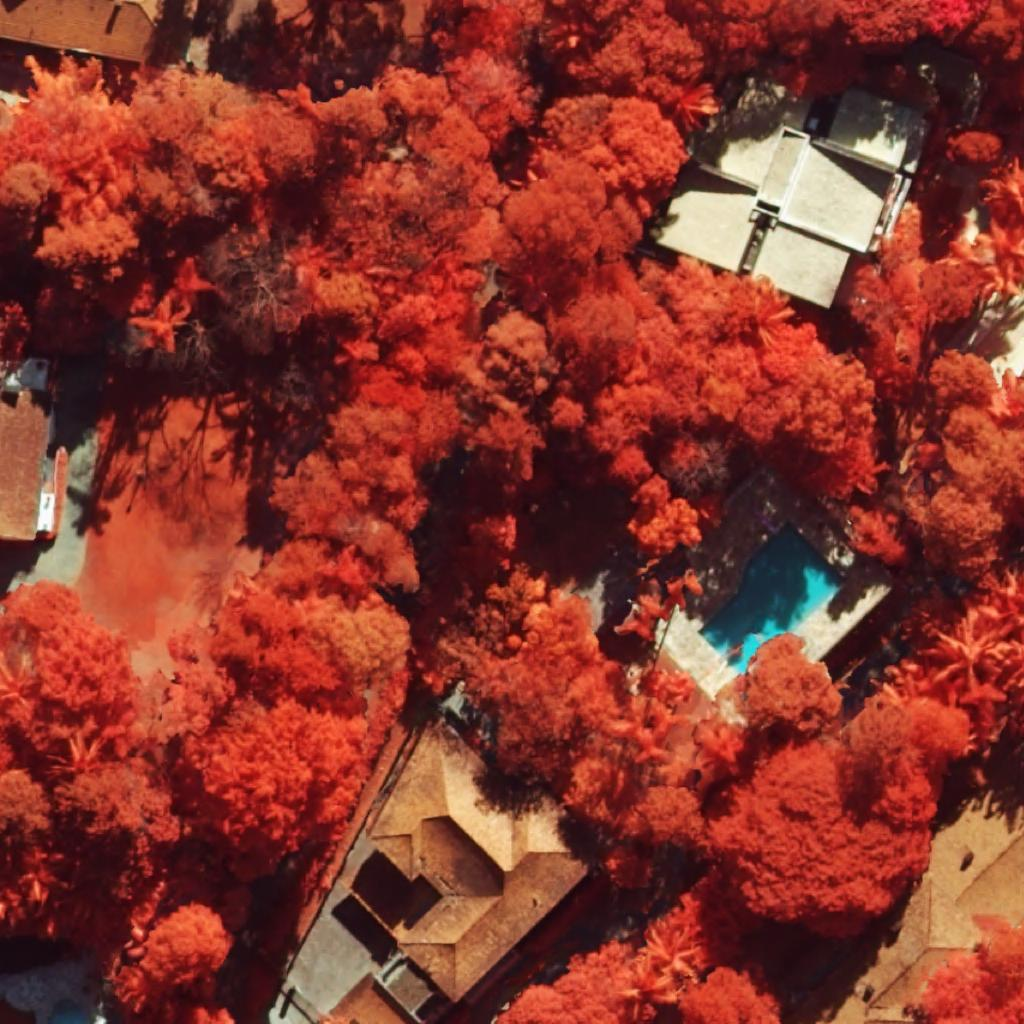pool: (698, 521, 845, 674), (48, 998, 88, 1024)
